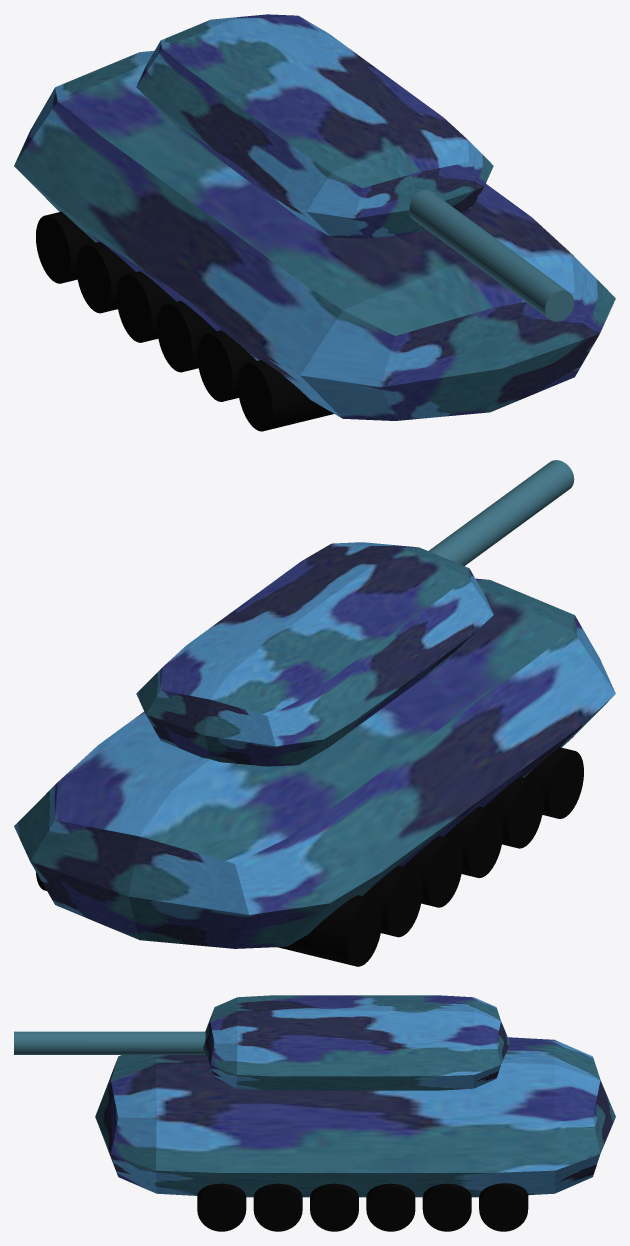
The model's file is Sensya_Milata.fbx.
3 views of the same model, one above another, from view 1: azimuth 30°, elevation 25°; view 2: azimuth 150°, elevation 25°; view 3: azimuth 270°, elevation 25° (orthographic). The views are drawn at different scales.
Parts seen in each view (by area): view 1: Cube, Cube.001, 円柱, 円柱.001; view 2: Cube, Cube.001, 円柱, 円柱.001; view 3: Cube, Cube.001, 円柱, 円柱.001.
Boxes of the visible parts, bbox=[...] form: Cube: bbox=[14, 50, 615, 420]; Cube.001: bbox=[136, 14, 493, 238]; 円柱: bbox=[36, 211, 333, 431]; 円柱.001: bbox=[409, 190, 574, 321]; Cube: bbox=[14, 578, 615, 948]; Cube.001: bbox=[136, 542, 493, 766]; 円柱: bbox=[36, 747, 583, 966]; 円柱.001: bbox=[428, 460, 574, 565]; Cube: bbox=[95, 1037, 615, 1197]; Cube.001: bbox=[203, 995, 509, 1090]; 円柱: bbox=[197, 1183, 528, 1231]; 円柱.001: bbox=[14, 1031, 205, 1054].
Bounding box in the file's own units: 178 × 124 × 404.
